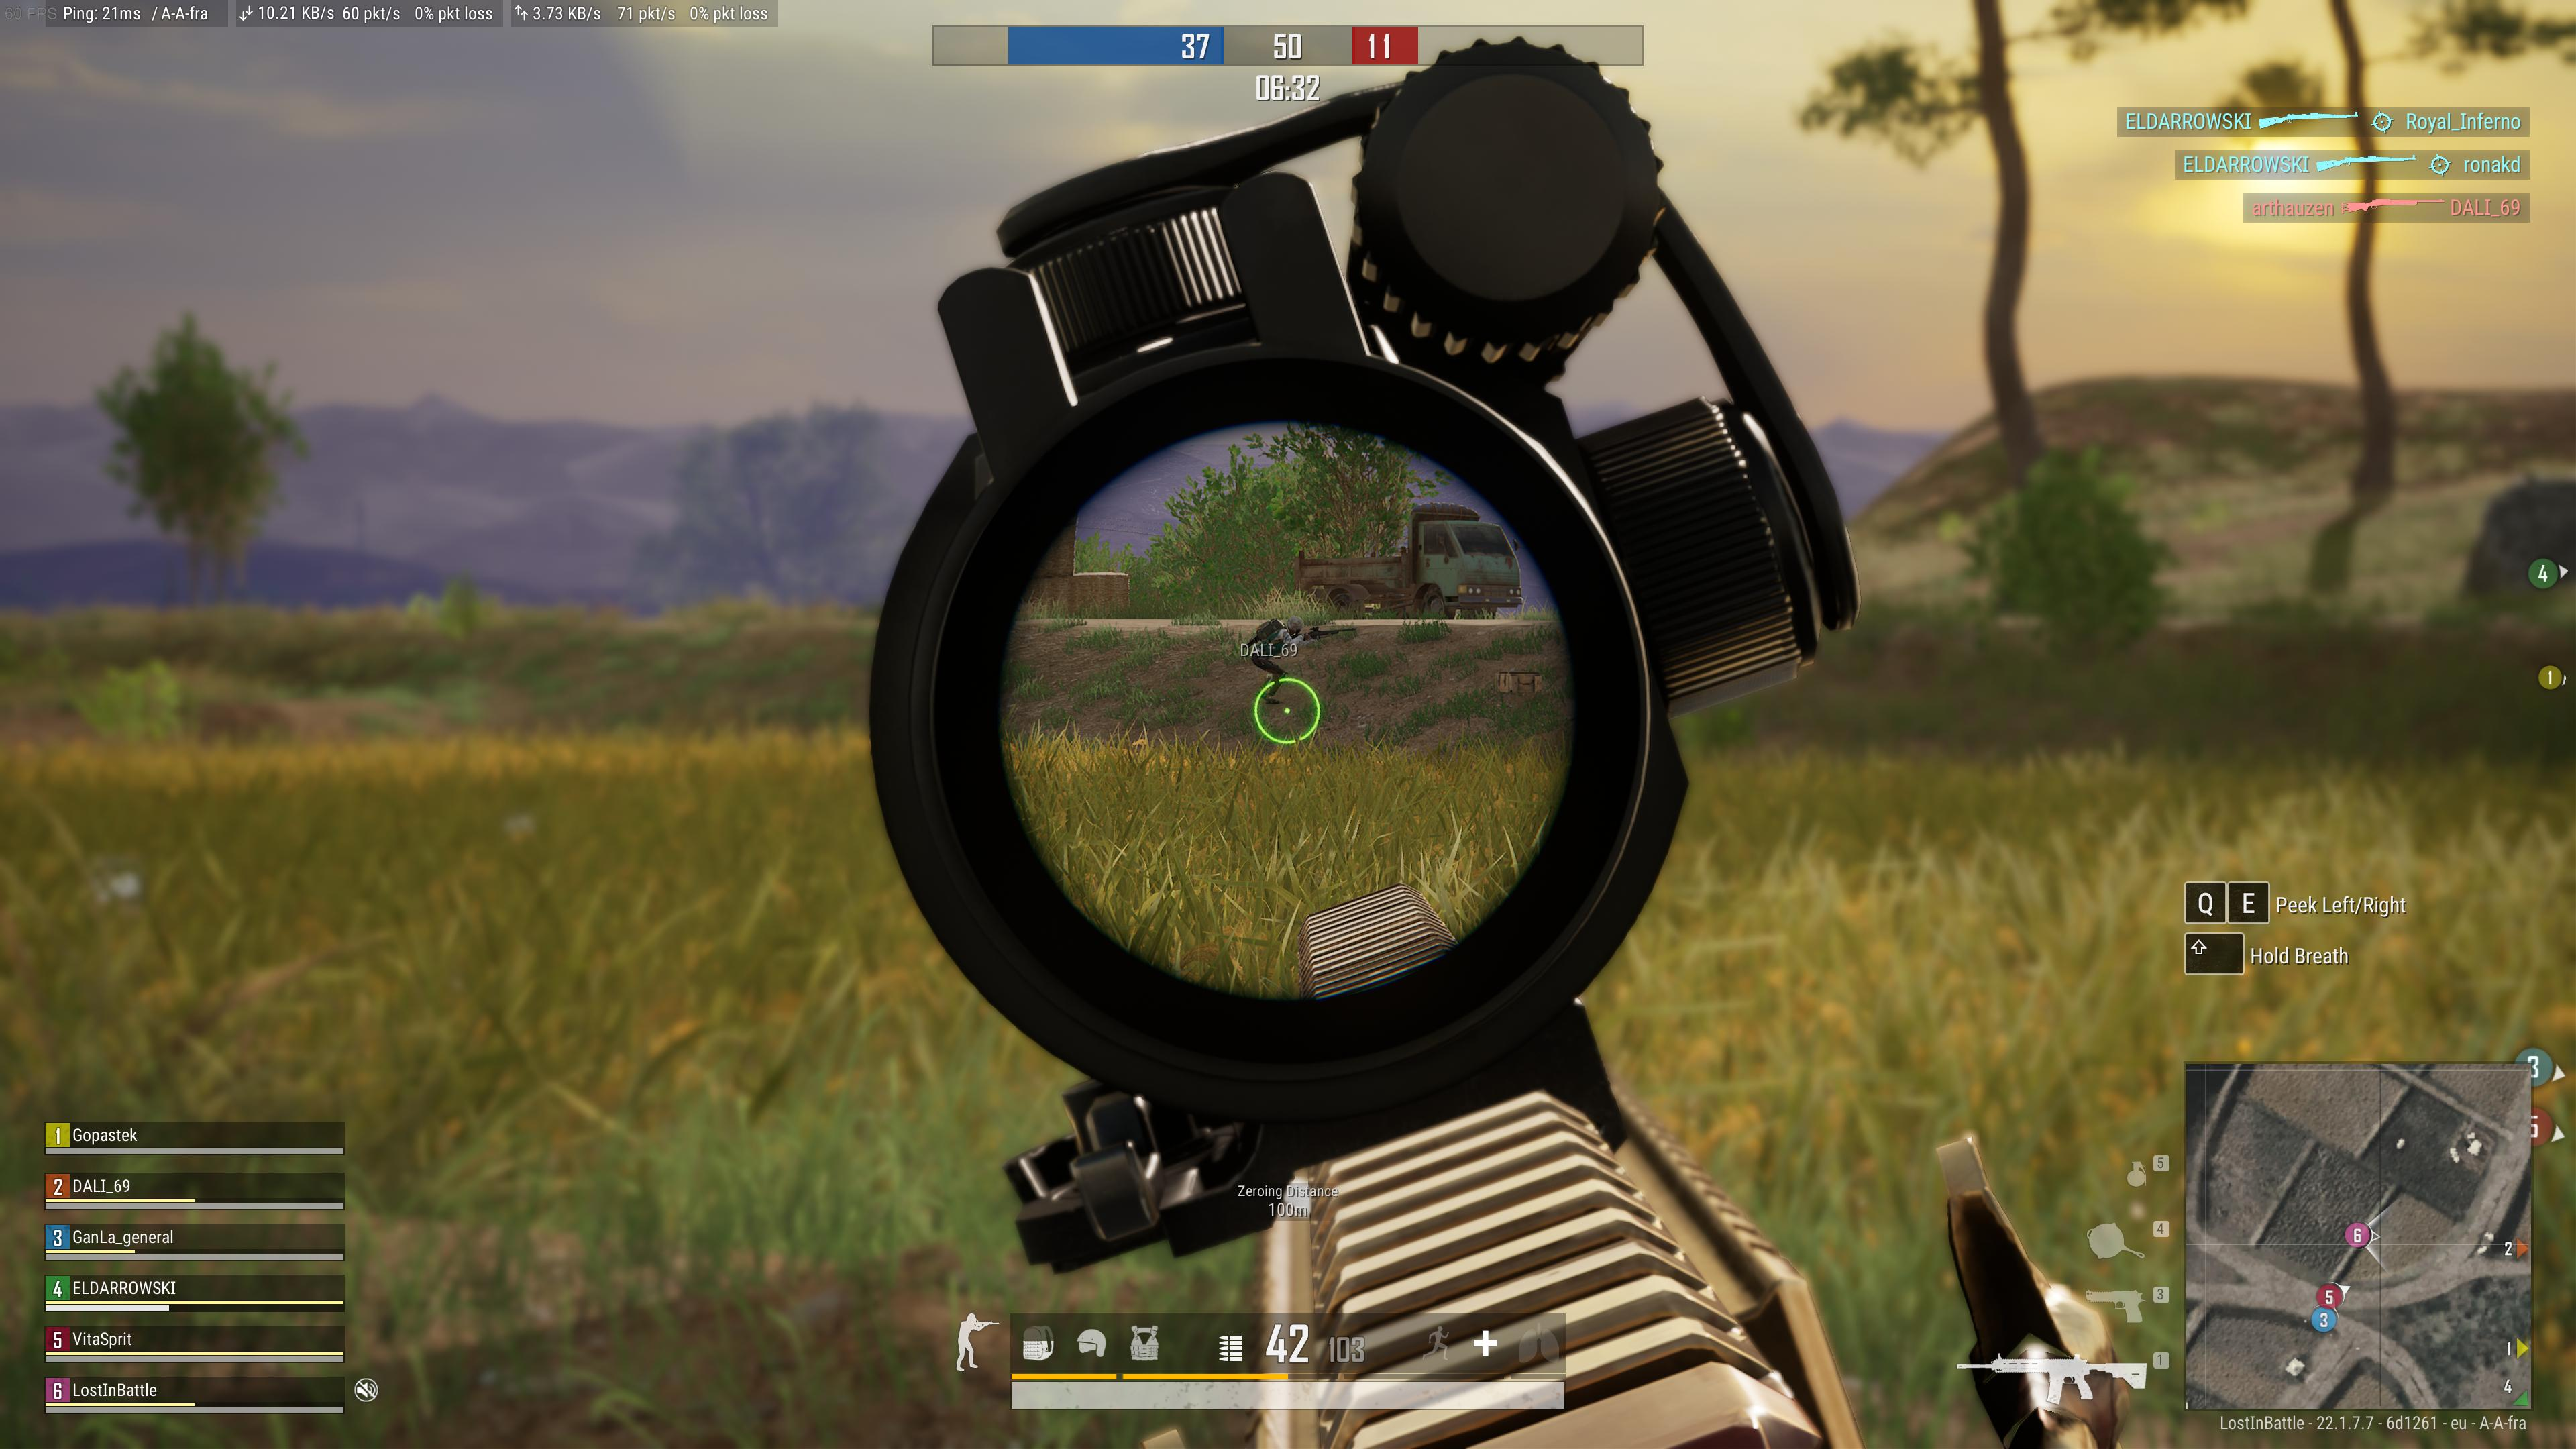friendly: (1240, 609, 1313, 706)
